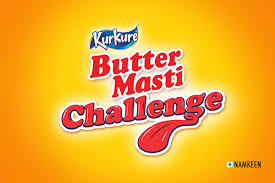kurkure: (88, 28, 141, 48)
